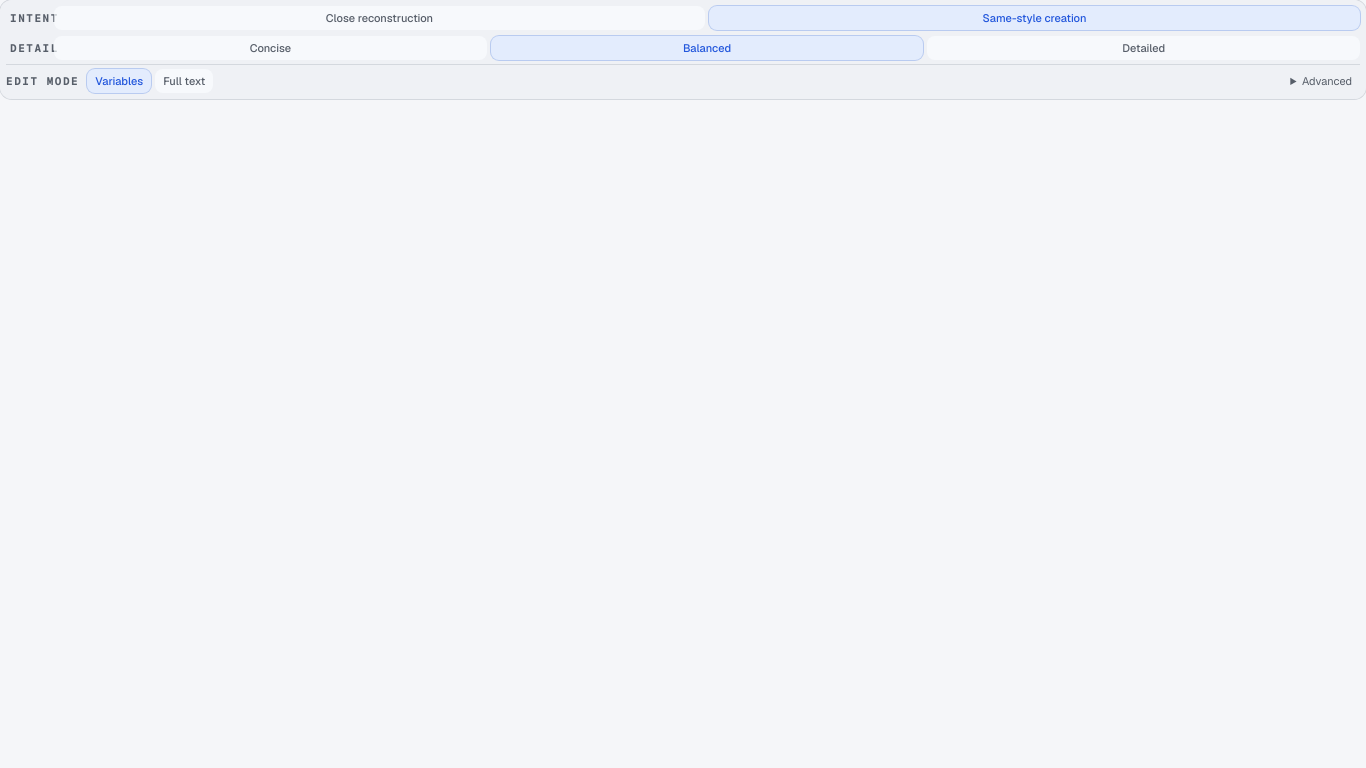
Test: PromptIntentControls › accepts the pending selection and applies the switch
Click the button with test id "intent-option-reconstruction".
click(380, 18)  # box x1=54 y1=6 x2=705 y2=30
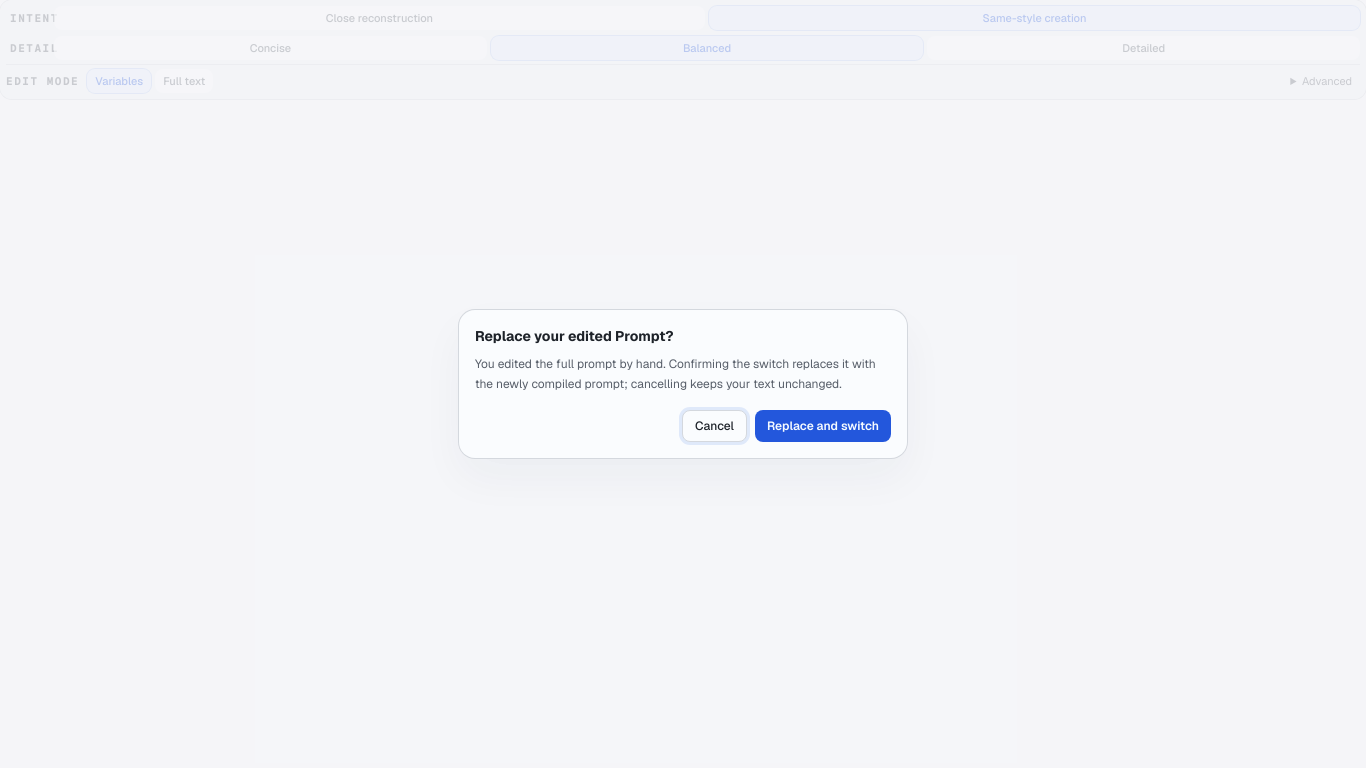
Click the button with test id "prompt-switch-confirm-accept".
click(823, 426)  # box x1=755 y1=410 x2=891 y2=442
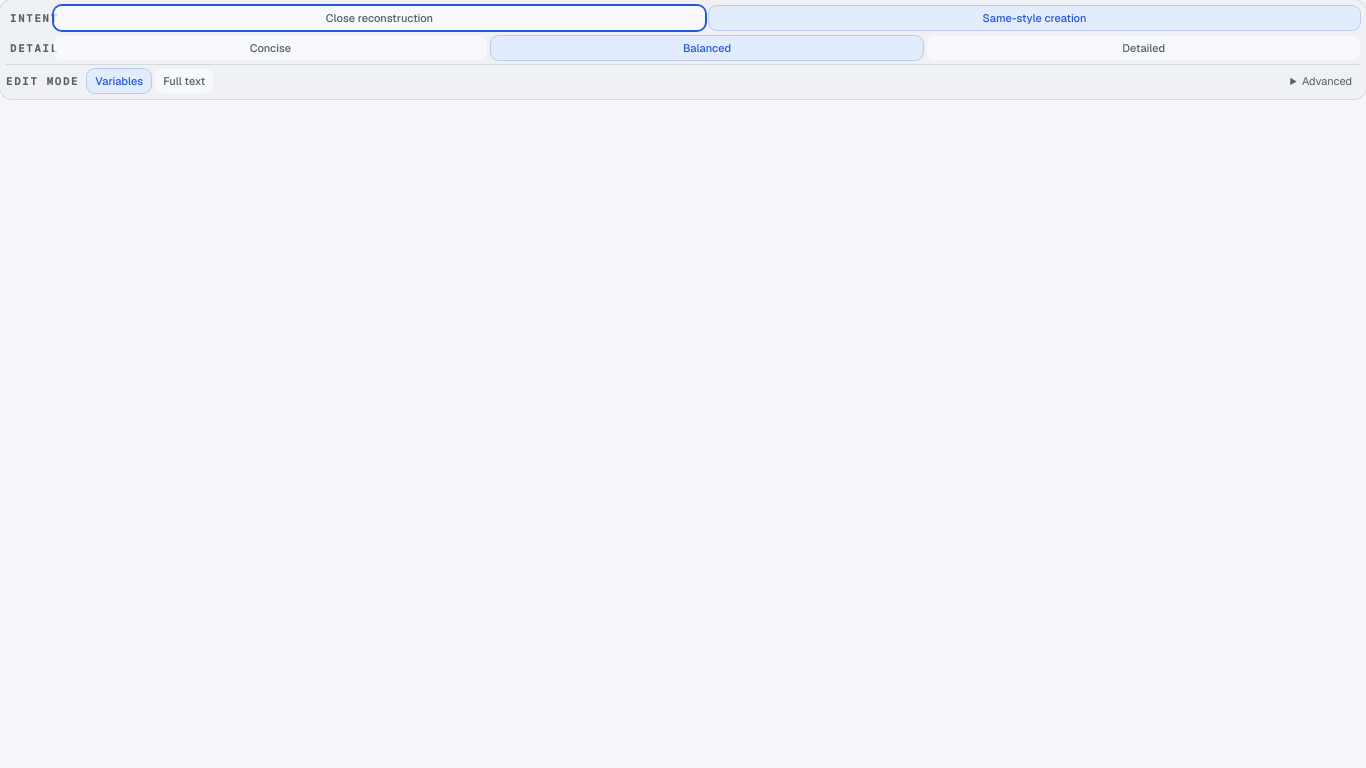
Now the dialog with test id "prompt-switch-confirm-dialog" is gone
